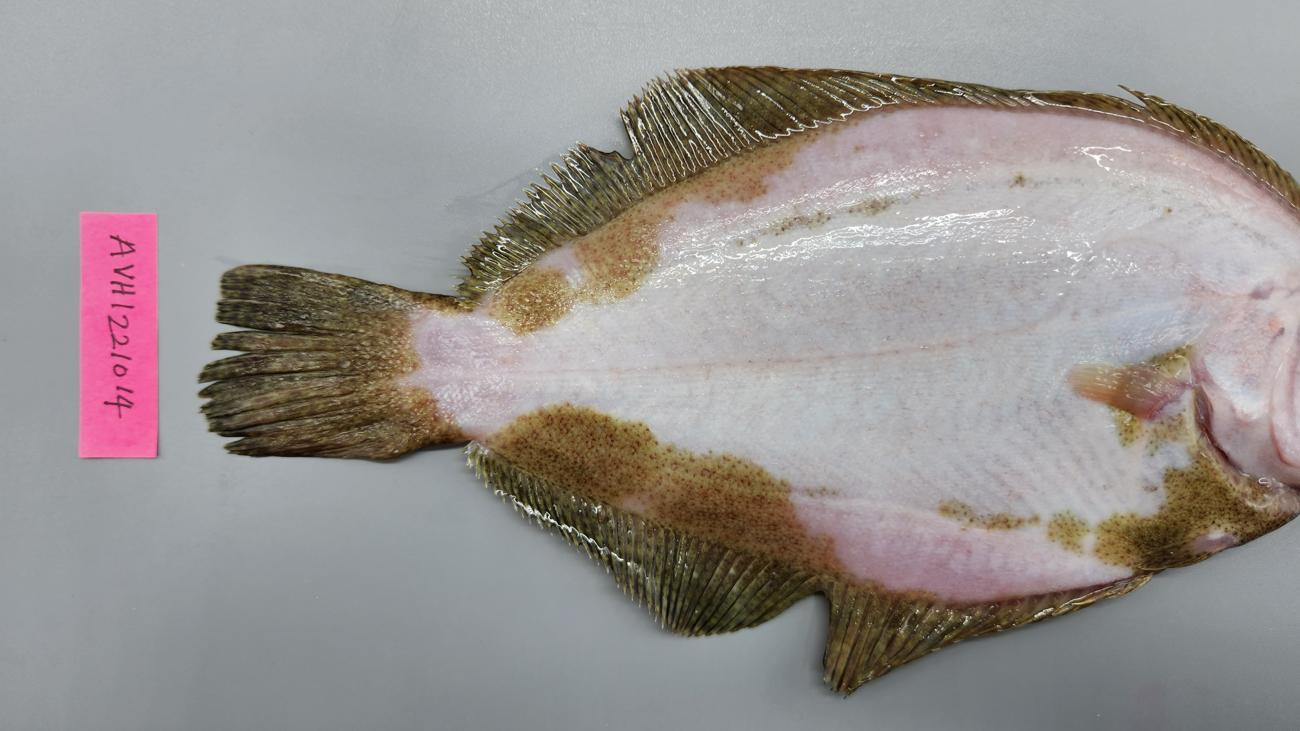VIDYH: (364, 293, 531, 445), (1087, 344, 1188, 429), (1129, 523, 1248, 574)
VIFCH: (196, 300, 411, 458)
